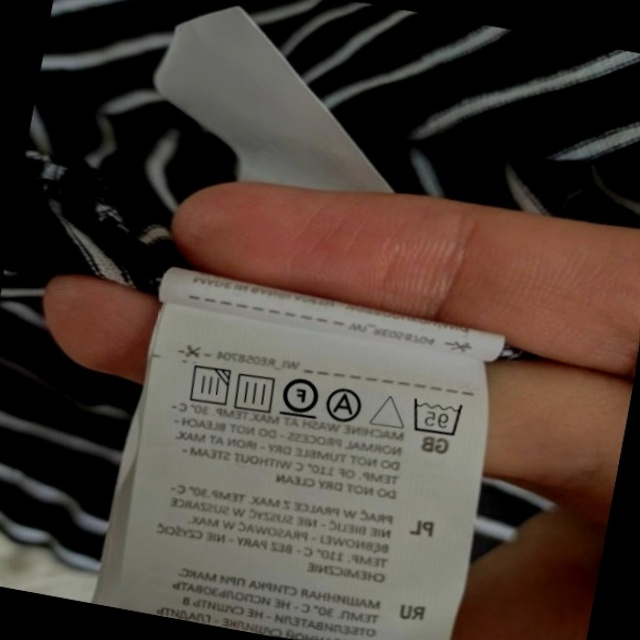95C: (405, 392, 467, 441)
bleach: (368, 387, 410, 434)
drip_dry: (229, 367, 280, 416)
drip_dry_in_shade: (181, 360, 234, 411)
dry_clean: (323, 383, 368, 426)
dry_clean_petrol_only: (277, 370, 323, 422)
